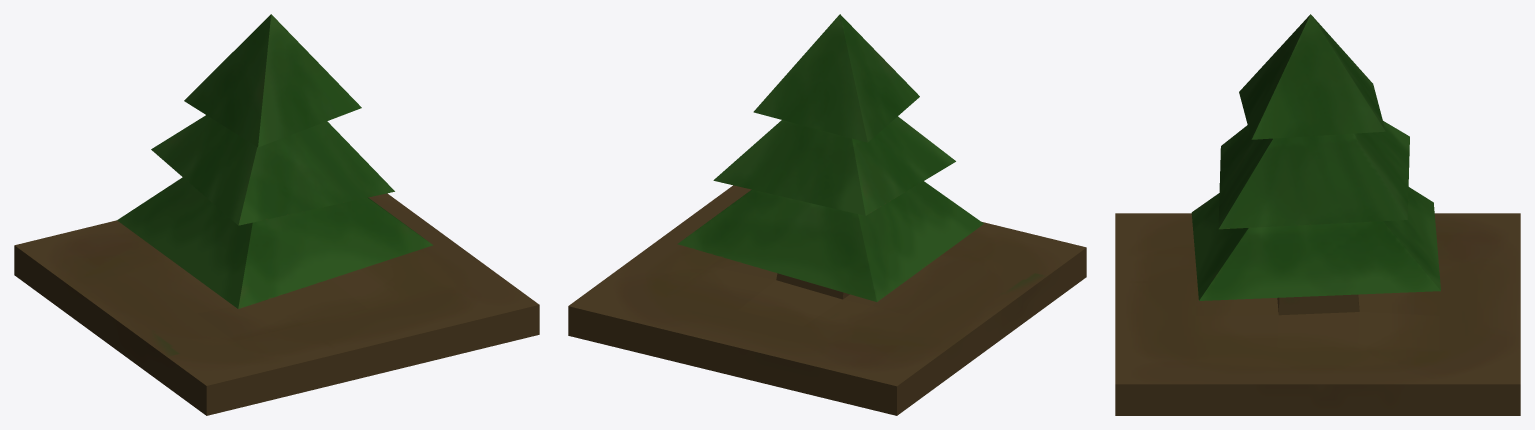
File: SimpleTree.glb
3 renders of one model, left to right at view 1: azimuth 30°, elevation 25°; view 2: azimuth 150°, elevation 25°; view 3: azimuth 270°, elevation 25°, orthographic. The views are drawn at different scales.
Parts seen in each view (by area): view 1: Cube; view 2: Cube; view 3: Cube.
Part boxes in pixels (x1,y1,x2,y2): Cube: [14, 14, 539, 415]; Cube: [568, 14, 1086, 415]; Cube: [1115, 14, 1520, 415].
Bounding box in the file's own units: 2 × 1.7 × 2.
1 material, 1 textured.
